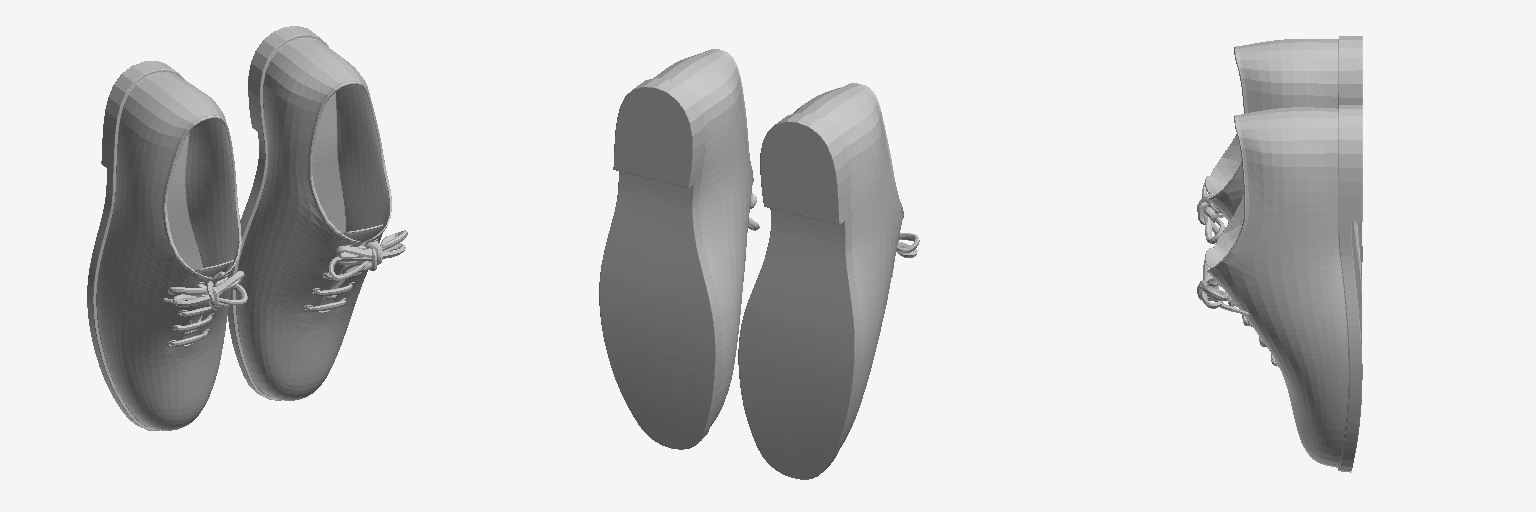
File: shoe.obj
3 views of the same model, side by side, from view 1: azimuth 30°, elevation 25°; view 2: azimuth 150°, elevation 25°; view 3: azimuth 270°, elevation 25° (orthographic).
Visible parts, largest first — view 1: 11741_shoes_v1_right, 11741_shoes_v1_left; view 2: 11741_shoes_v1_left, 11741_shoes_v1_right; view 3: 11741_shoes_v1_left, 11741_shoes_v1_right.
Part boxes in pixels (x1,y1,x2,y2): 11741_shoes_v1_right: (87, 61, 247, 430); 11741_shoes_v1_left: (228, 26, 407, 400); 11741_shoes_v1_left: (599, 49, 759, 449); 11741_shoes_v1_right: (738, 83, 919, 479); 11741_shoes_v1_left: (1197, 105, 1362, 472); 11741_shoes_v1_right: (1197, 36, 1362, 292).
Size of the model in its own units: 8.7 by 11.79 by 4.89.